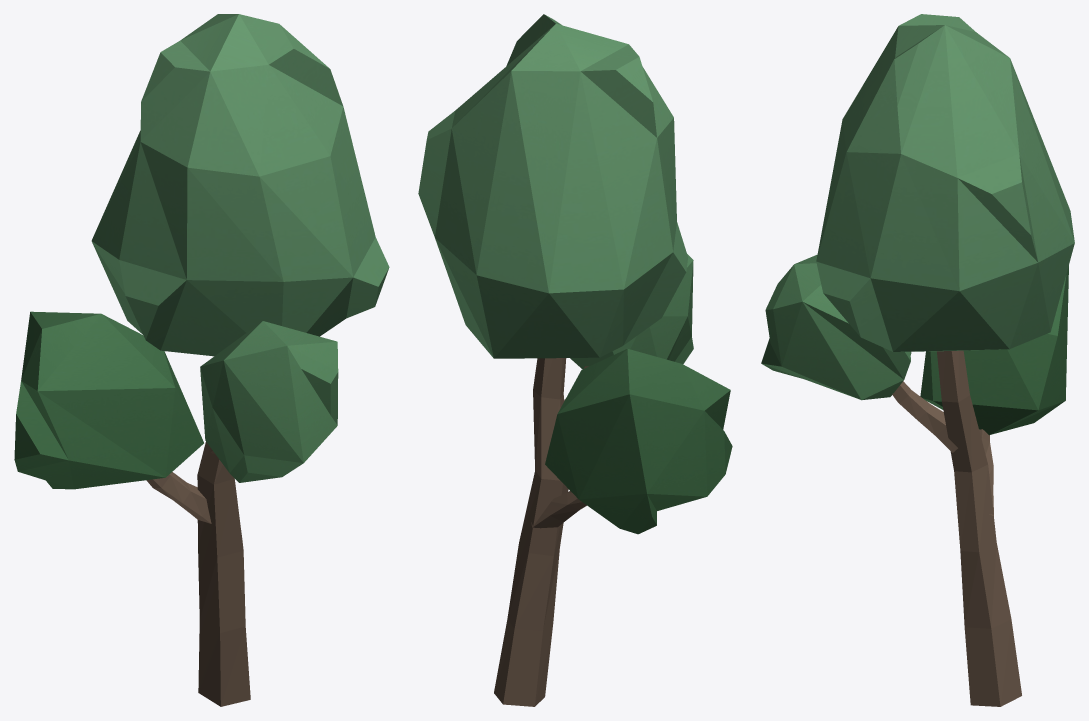
The model's file is arbol2.fbx.
3 renders of one model, left to right at view 1: azimuth 30°, elevation 25°; view 2: azimuth 150°, elevation 25°; view 3: azimuth 270°, elevation 25°, orthographic. The views are drawn at different scales.
Visible parts, largest first — view 1: tree9.001; view 2: tree9.001; view 3: tree9.001.
Boxes of the visible parts, bbox=[...] form: tree9.001: bbox=[14, 14, 389, 706]; tree9.001: bbox=[418, 14, 732, 706]; tree9.001: bbox=[761, 14, 1074, 706].
Bounding box in the file's own units: 759 × 1576 × 670.
1 material, 1 textured.
